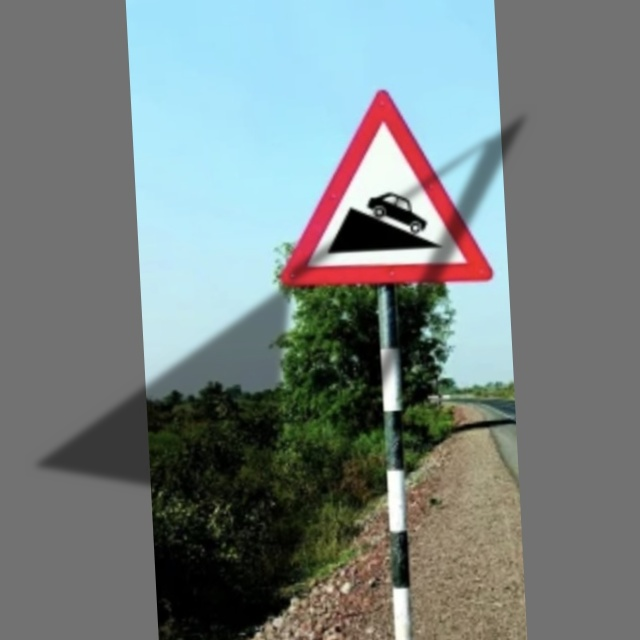Steep_Descent: (277, 85, 493, 299)
